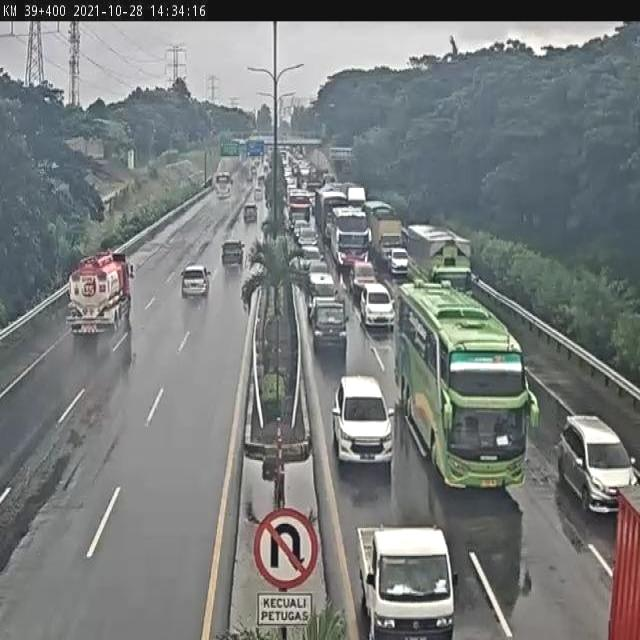Bus: (397, 281, 532, 484), (332, 203, 372, 267), (215, 172, 232, 200)
Car: (355, 523, 455, 639), (557, 413, 637, 512), (332, 372, 394, 464), (308, 296, 349, 354), (357, 281, 395, 331), (180, 264, 212, 300), (387, 247, 410, 281), (221, 240, 244, 268), (243, 203, 258, 223), (254, 186, 263, 200)
Truck: (66, 246, 135, 345)
